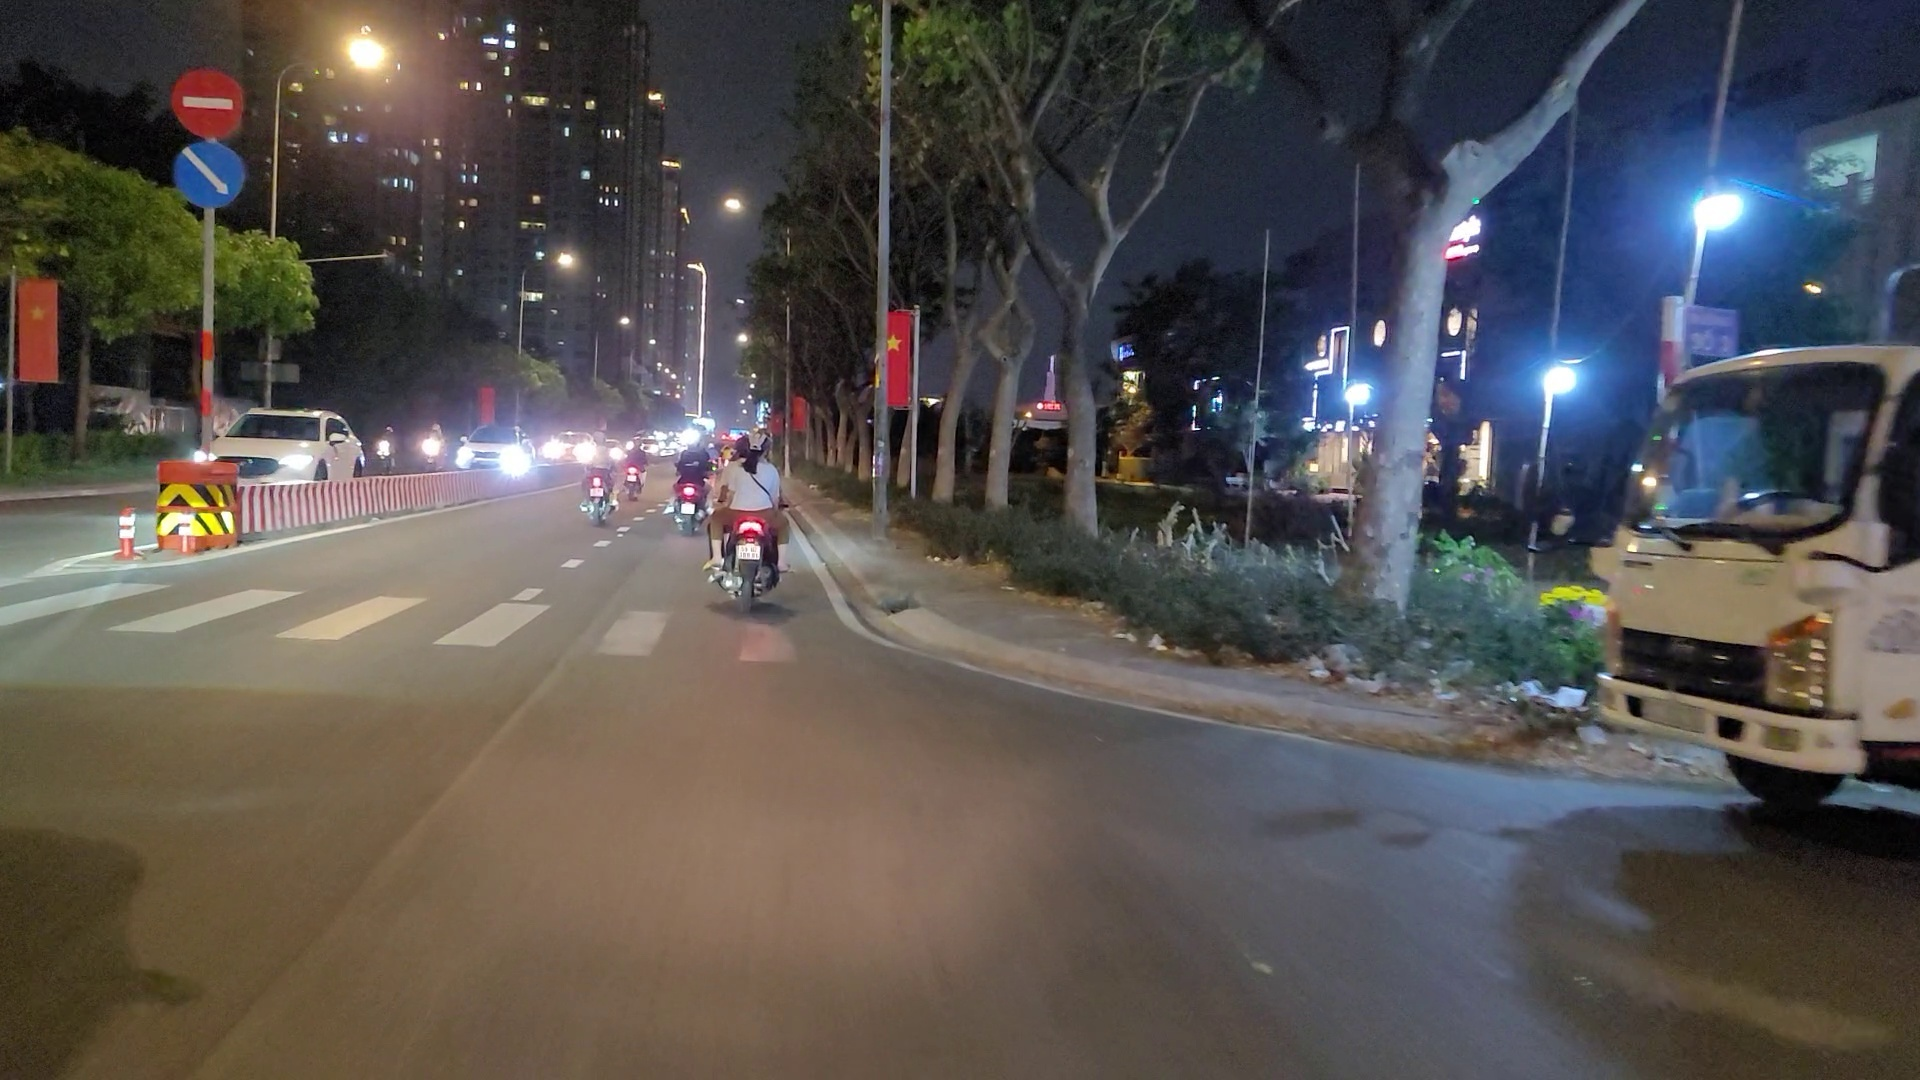Cam di nguoc chieu: (169, 69, 243, 137)
Huong di phai re phai: (171, 140, 245, 210)
